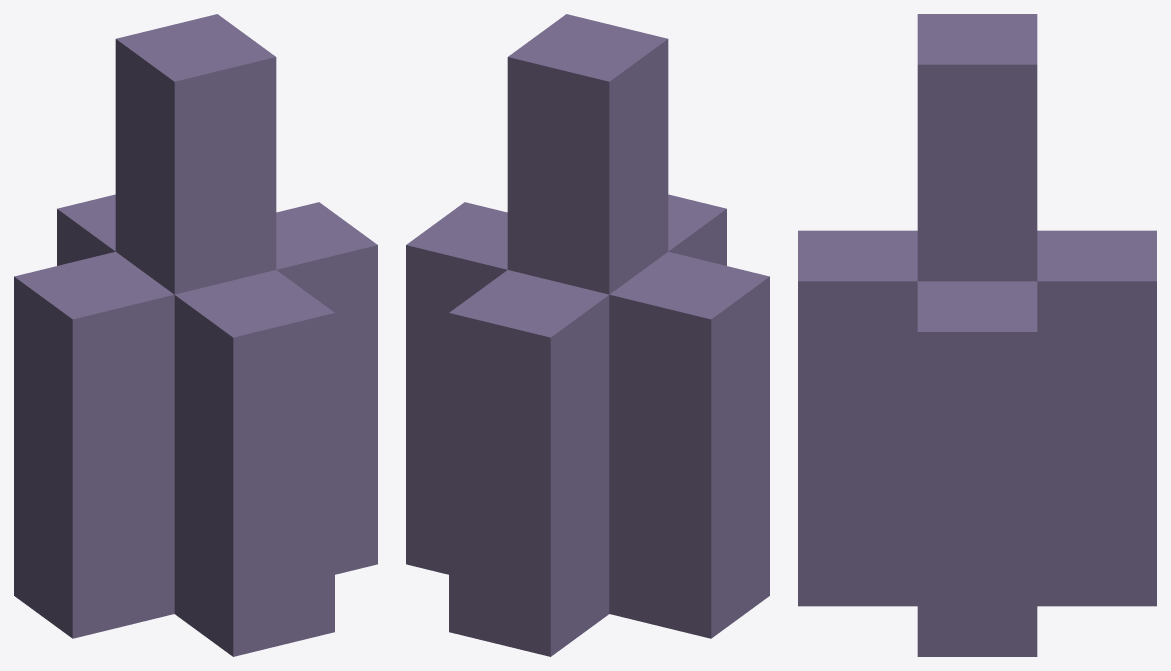
Rendered from spike_a_a.obj.
The picture shows the model from 3 angles, left to right: view 1: azimuth 30°, elevation 25°; view 2: azimuth 150°, elevation 25°; view 3: azimuth 270°, elevation 25°; orthographic projection.
Bounding box in the file's own units: 0.3 × 0.5 × 0.3.
Materials: 1 (1 with a texture image).
